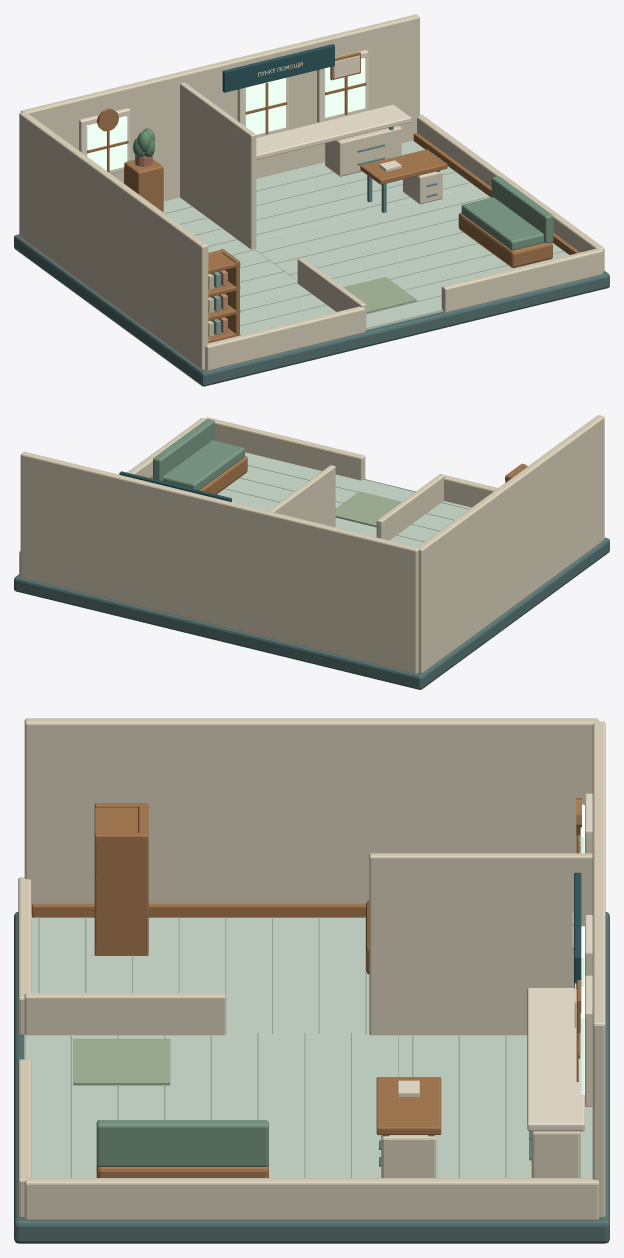
File: interior-clinic.glb
3 renders of one model, top to bottom at view 1: azimuth 30°, elevation 25°; view 2: azimuth 150°, elevation 25°; view 3: azimuth 270°, elevation 25°, orthographic. The views are drawn at different scales.
Visible parts, largest first — view 1: Surface Warm plaster, Surface Tile, Interior plinth, Surface Honey oak, Surface Linen, Surface Daylight, Surface Sage upholstery, Surface Floor seam, Enamel sign, Welcome rug, Surface Steel, Surface Houseplant; view 2: Surface Warm plaster, Interior plinth, Surface Tile, Surface Sage upholstery, Welcome rug, Surface Honey oak, Enamel sign, Surface Floor seam; view 3: Surface Warm plaster, Surface Tile, Surface Honey oak, Interior plinth, Surface Linen, Surface Sage upholstery, Welcome rug, Surface Floor seam, Surface Daylight, Enamel sign.
Boxes of the visible parts, <box> form: Surface Warm plaster: <box>19,14,604,370</box>; Surface Tile: <box>163,140,569,335</box>; Interior plinth: <box>14,234,609,386</box>; Surface Honey oak: <box>87,52,580,343</box>; Surface Linen: <box>79,50,411,173</box>; Surface Daylight: <box>86,58,365,170</box>; Surface Sage upholstery: <box>461,176,553,250</box>; Surface Floor seam: <box>165,151,564,328</box>; Enamel sign: <box>222,44,334,92</box>; Welcome rug: <box>343,277,416,313</box>; Surface Steel: <box>357,126,440,212</box>; Surface Houseplant: <box>133,128,154,157</box>; Surface Warm plaster: <box>19,415,604,673</box>; Interior plinth: <box>14,537,609,689</box>; Surface Tile: <box>217,452,471,547</box>; Surface Sage upholstery: <box>153,419,244,490</box>; Welcome rug: <box>335,491,401,527</box>; Surface Honey oak: <box>150,455,527,494</box>; Enamel sign: <box>119,471,231,501</box>; Surface Floor seam: <box>225,465,469,541</box>; Surface Warm plaster: <box>18,718,605,1220</box>; Surface Tile: <box>25,914,592,1177</box>; Surface Honey oak: <box>32,798,581,1177</box>; Interior plinth: <box>14,912,609,1243</box>; Surface Linen: <box>398,793,592,1131</box>; Surface Sage upholstery: <box>96,1120,268,1166</box>; Welcome rug: <box>73,1038,170,1085</box>; Surface Floor seam: <box>24,917,506,1177</box>; Surface Daylight: <box>580,804,584,1095</box>; Enamel sign: <box>574,872,581,989</box>.
Bounding box in the file's own units: 10.3 × 3.33 × 8.3.
